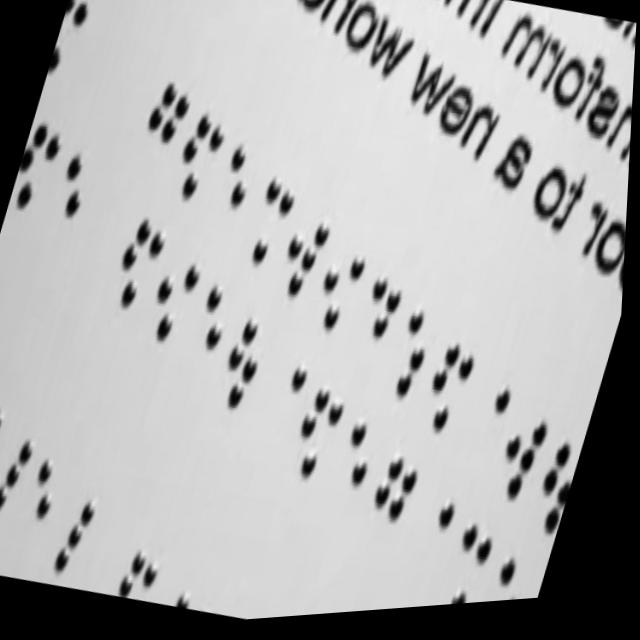braiile: (25, 126, 107, 280), (270, 187, 344, 321), (282, 375, 359, 503), (491, 393, 565, 525), (201, 121, 274, 251), (139, 235, 210, 367), (380, 291, 451, 422), (210, 300, 281, 430), (341, 261, 413, 389), (126, 65, 199, 191), (416, 328, 488, 455), (250, 337, 320, 467), (322, 405, 394, 531), (162, 96, 237, 216), (360, 443, 432, 568), (308, 224, 377, 354), (525, 426, 589, 564), (180, 264, 250, 390), (8, 99, 72, 236), (234, 161, 304, 284), (105, 203, 175, 326), (41, 466, 110, 587), (403, 481, 470, 603), (456, 369, 523, 484), (435, 514, 503, 613), (0, 402, 48, 533), (487, 542, 546, 610), (116, 538, 170, 604)
